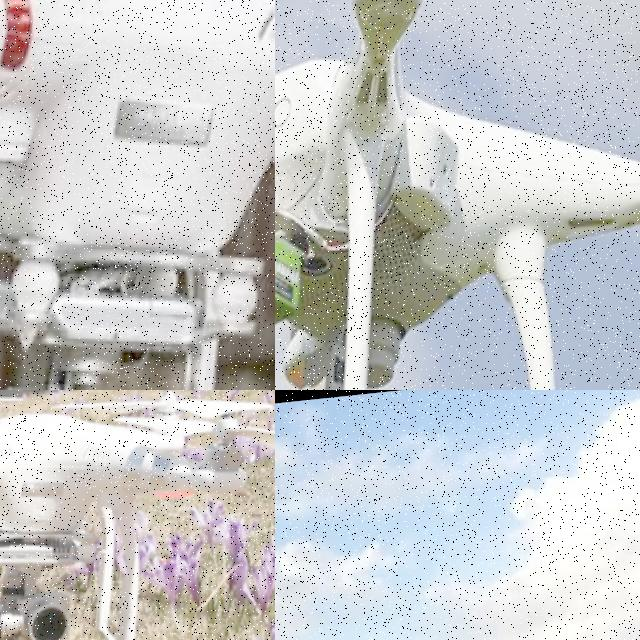0: (0, 0, 275, 390), (0, 390, 275, 640)
drone: (275, 0, 640, 390)
